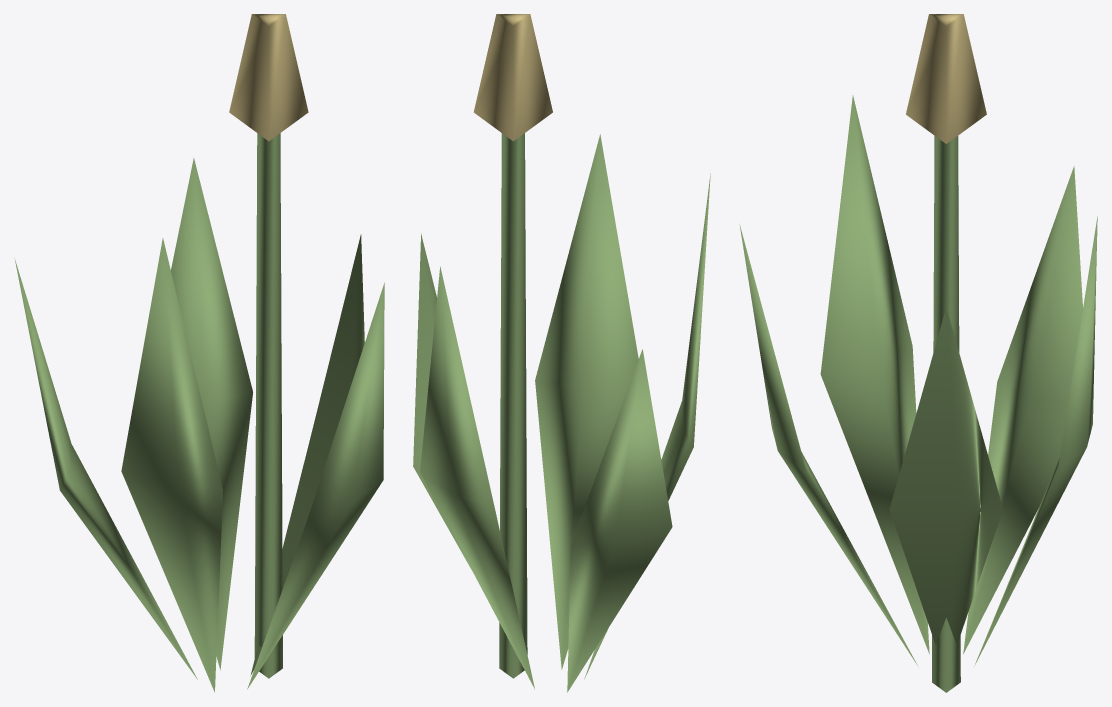
The model's file is weed_standing.glb.
3 renders of one model, left to right at view 1: azimuth 30°, elevation 25°; view 2: azimuth 150°, elevation 25°; view 3: azimuth 270°, elevation 25°, orthographic. The views are drawn at different scales.
Bounding box in the file's own units: 0.2002 × 0.44 × 0.214.
